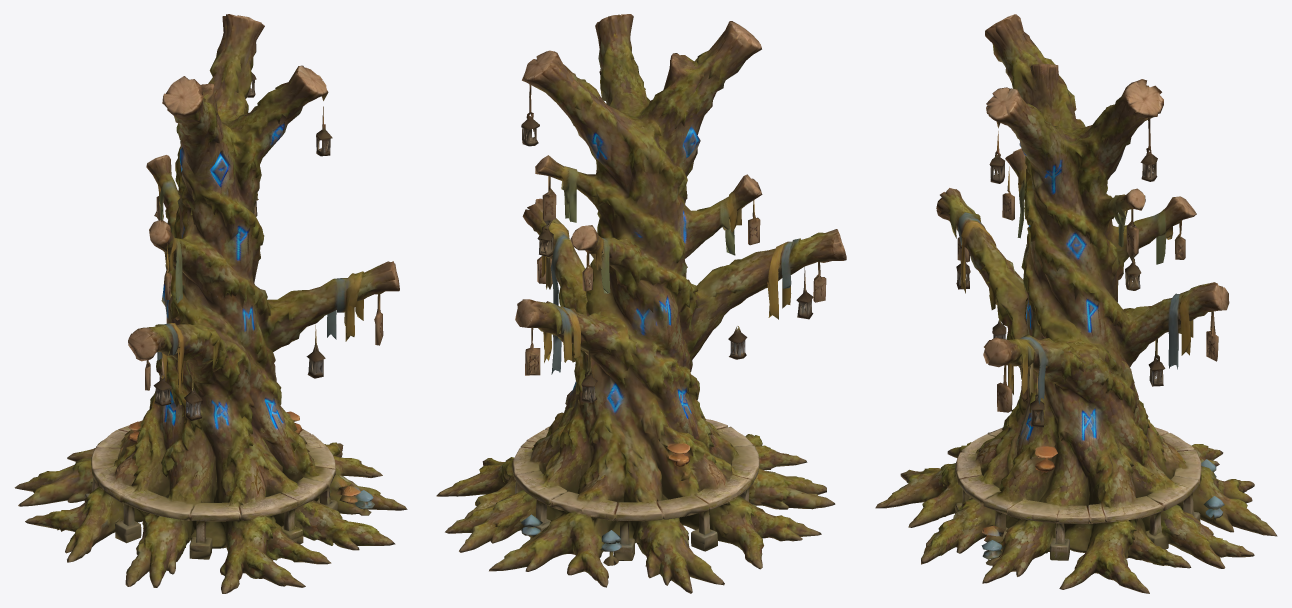
File: roble-eikholt.glb
3 views of the same model, side by side, from view 1: azimuth 30°, elevation 25°; view 2: azimuth 150°, elevation 25°; view 3: azimuth 270°, elevation 25° (orthographic).
Parts seen in each view (by area): view 1: tripo_node_b1bdbad6-215a-483d-a52d-54e718000be2; view 2: tripo_node_b1bdbad6-215a-483d-a52d-54e718000be2; view 3: tripo_node_b1bdbad6-215a-483d-a52d-54e718000be2.
Part boxes in pixels (bbox=[...]): tripo_node_b1bdbad6-215a-483d-a52d-54e718000be2: bbox=[14, 14, 407, 593]; tripo_node_b1bdbad6-215a-483d-a52d-54e718000be2: bbox=[436, 14, 846, 593]; tripo_node_b1bdbad6-215a-483d-a52d-54e718000be2: bbox=[875, 14, 1277, 593].
Size of the model in its own units: 0.7112 by 0.9824 by 0.7594.
Materials: 1 (1 with a texture image).
